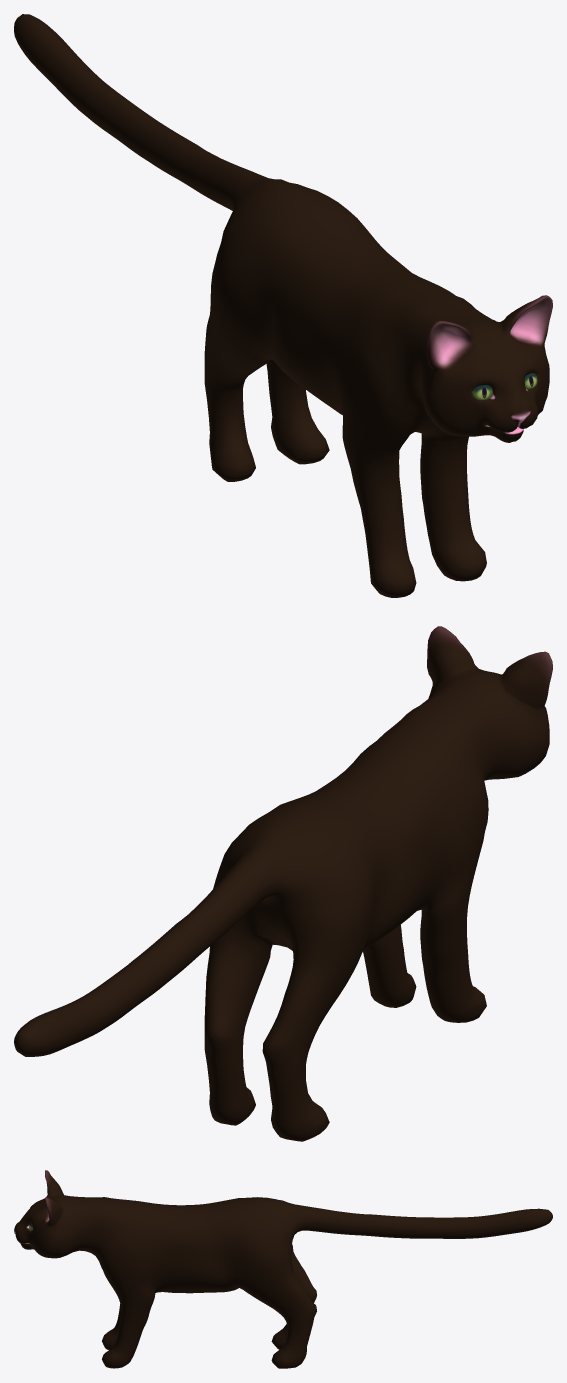
Rendered from cat.fbx.
The picture shows the model from 3 angles, top to bottom: view 1: azimuth 30°, elevation 25°; view 2: azimuth 150°, elevation 25°; view 3: azimuth 270°, elevation 25°; orthographic projection. The views are drawn at different scales.
Parts seen in each view (by area): view 1: kissa_mesh; view 2: kissa_mesh; view 3: kissa_mesh.
Part boxes in pixels (bbox=[...]): kissa_mesh: bbox=[14, 14, 552, 597]; kissa_mesh: bbox=[14, 626, 552, 1141]; kissa_mesh: bbox=[14, 1170, 552, 1368].
Bounding box in the file's own units: 13.83 × 30.11 × 85.39.
